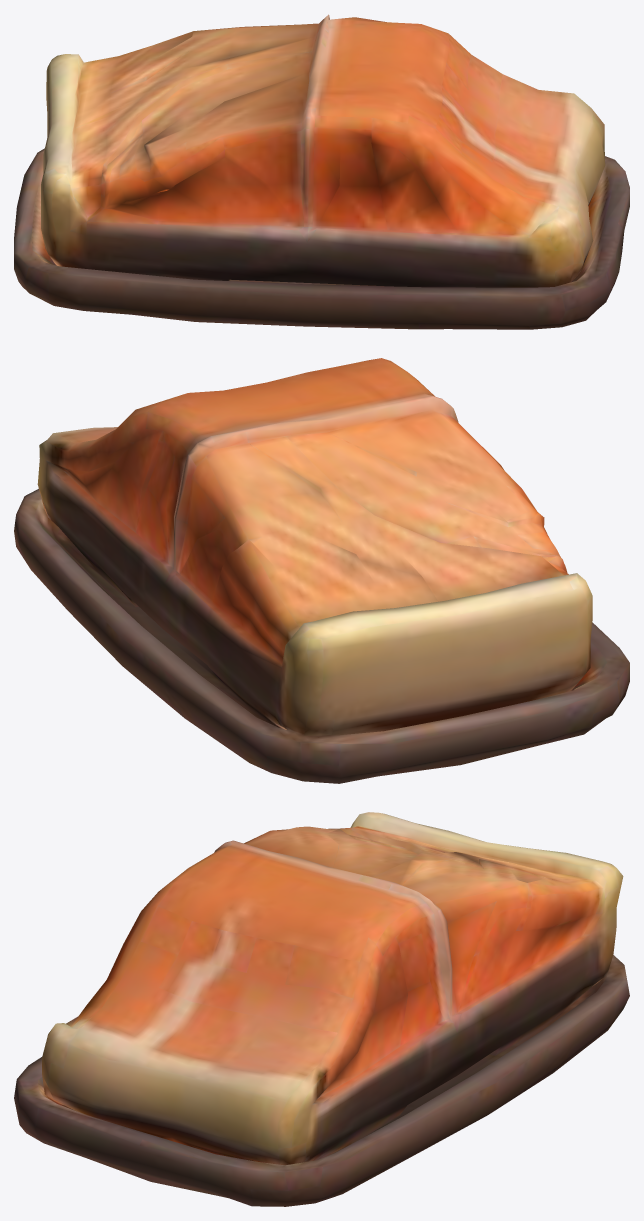
Rendered from salmon.glb.
3 views of the same model, one above another, from view 1: azimuth 30°, elevation 25°; view 2: azimuth 150°, elevation 25°; view 3: azimuth 270°, elevation 25° (orthographic). The views are drawn at different scales.
Visible parts, largest first — view 1: Salmon; view 2: Salmon; view 3: Salmon.
Part boxes in pixels (box(x1,y1,x2,y2)): Salmon: box(14, 14, 629, 329); Salmon: box(14, 358, 629, 783); Salmon: box(14, 812, 629, 1206).
Bounding box in the file's own units: 2.11 × 0.7593 × 1.9.
Materials: 1 (1 with a texture image).
